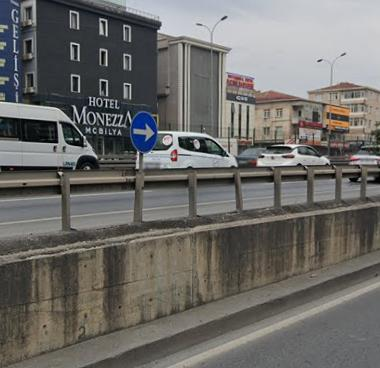turnright: (131, 111, 157, 148)
